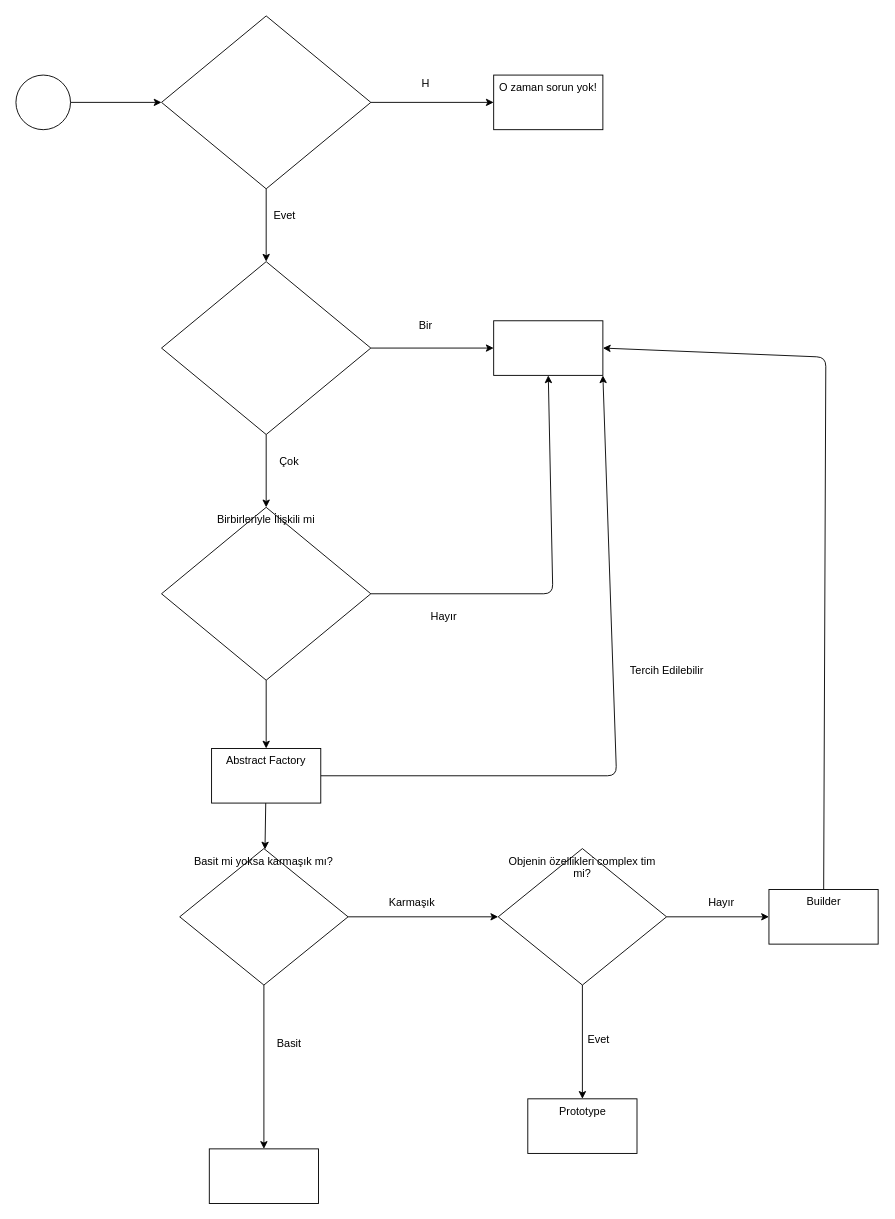
Image size: 895x1219. Some labels were removed from this diagram. The centre of each missing label's shape, as x and y in pixels:
"Bir object oluşturmak istiyor musun?" belongs at [266,102].
"Constructor kullan" belongs at [263,1175].
"Factory Method" belongs at [548,347].
"Yalnızca 1 tane mi yoksa daha fazla mı" belongs at [266,348].
